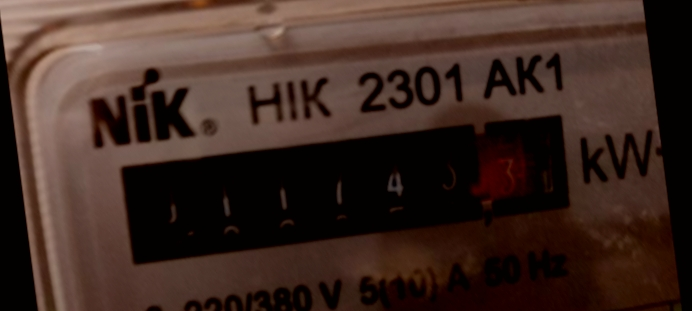0: (148, 177, 183, 228)
1: (268, 164, 294, 214), (213, 172, 236, 221)
3: (431, 144, 464, 195), (492, 151, 521, 198)
4: (377, 150, 411, 201)
7: (323, 159, 353, 209)
screen: (103, 100, 580, 276)
